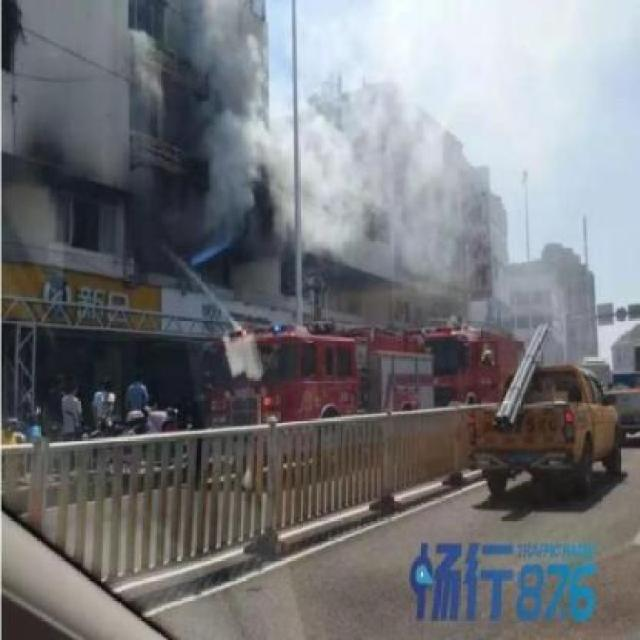Smoke: (201, 0, 270, 246), (274, 124, 380, 252)
